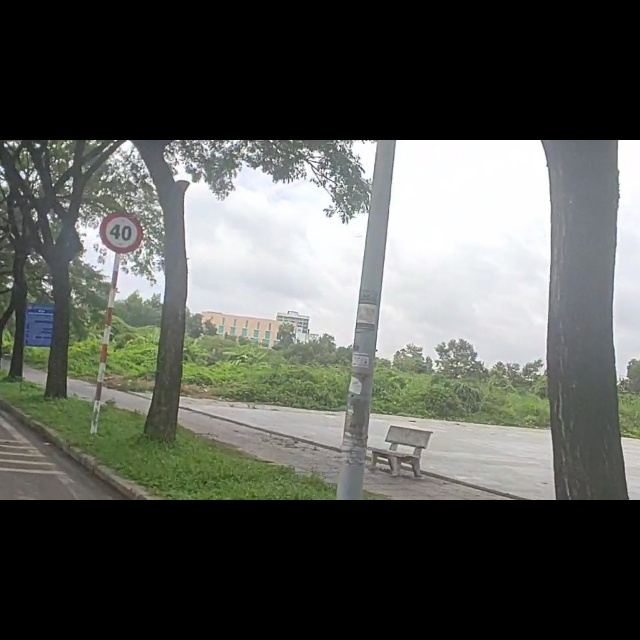Tốc độ tối đa cho phép 40km/h: (100, 210, 144, 254)
